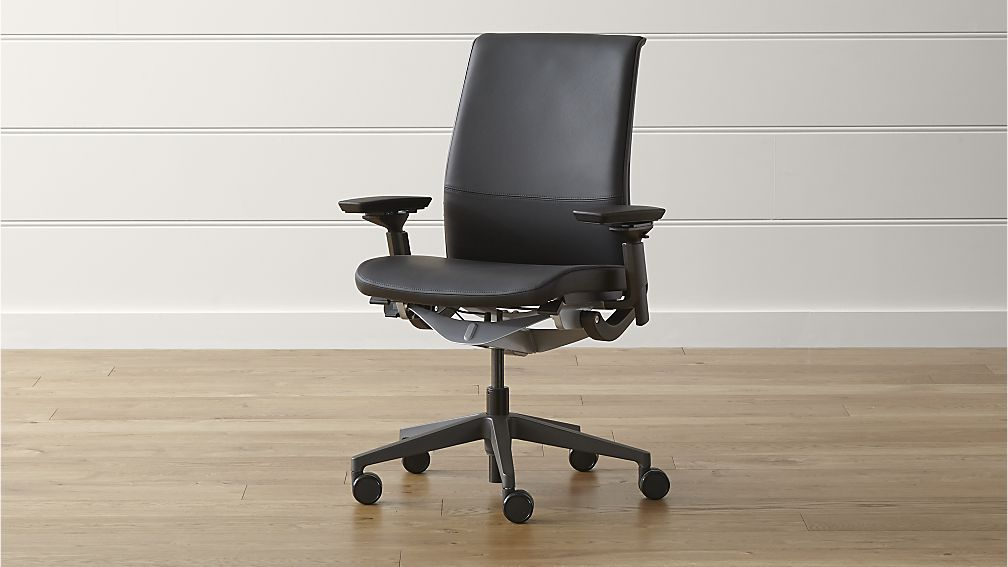chairs: (330, 29, 675, 524)
